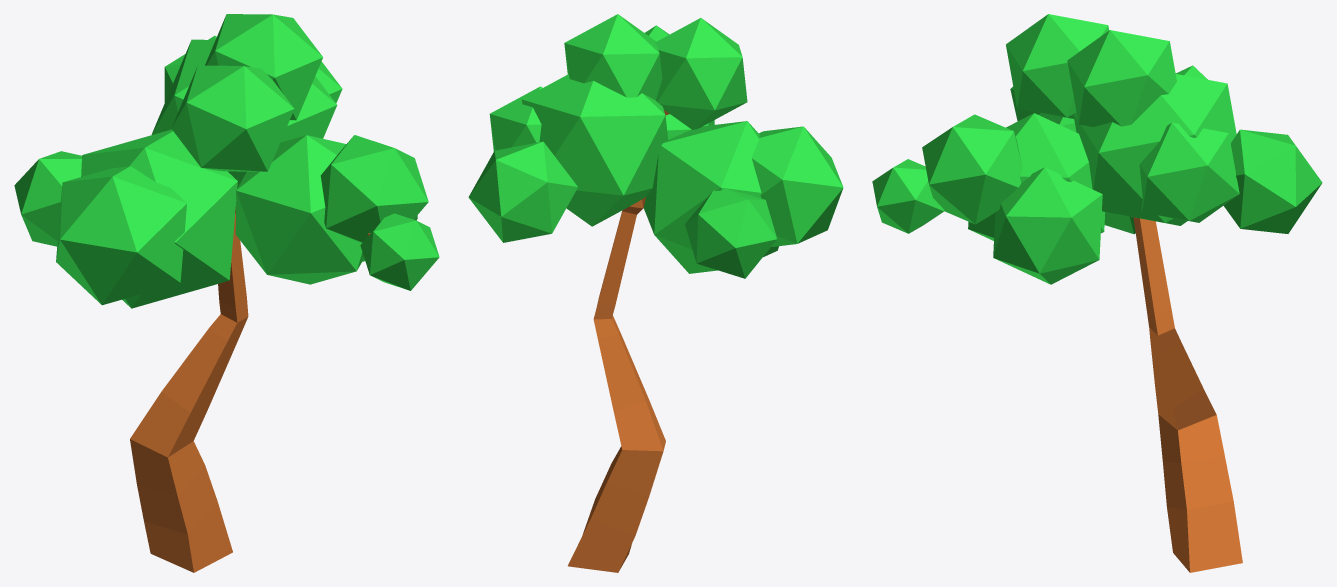
Rendered from pohon3.fbx.
The picture shows the model from 3 angles, left to right: view 1: azimuth 30°, elevation 25°; view 2: azimuth 150°, elevation 25°; view 3: azimuth 270°, elevation 25°; orthographic projection. The views are drawn at different scales.
Parts seen in each view (by area): view 1: Cube.024, Icosphere.016, Icosphere.026, Icosphere.025, Icosphere.023, Icosphere.018, Icosphere.022, Icosphere.017, Icosphere.015, Icosphere.024; view 2: Icosphere.024, Cube.024, Icosphere.025, Icosphere.016, Icosphere.020, Icosphere.023, Icosphere.015, Icosphere.022, Icosphere.021; view 3: Cube.024, Icosphere.024, Icosphere.019, Icosphere.022, Icosphere.018, Icosphere.021, Icosphere.020, Icosphere.023, Icosphere.026, Icosphere.017, Icosphere.025.
Part boxes in pixels (x1,y1,x2,y2): Cube.024: (130,206,370,572); Icosphere.016: (56,166,186,305); Icosphere.026: (235,135,364,284); Icosphere.025: (81,129,237,308); Icosphere.023: (171,65,294,171); Icosphere.018: (320,135,428,243); Icosphere.022: (205,14,322,120); Icosphere.017: (360,213,439,290); Icosphere.015: (14,151,81,246); Icosphere.024: (151,39,337,187); Icosphere.024: (521,74,668,226); Cube.024: (568,110,669,572); Icosphere.025: (643,121,778,273); Icosphere.016: (751,126,843,246); Icosphere.020: (468,141,577,242); Icosphere.023: (655,18,747,129); Icosphere.015: (685,188,776,278); Icosphere.022: (564,14,662,100); Icosphere.021: (489,86,542,151); Cube.024: (1133,217,1242,572); Icosphere.024: (1073,74,1236,225); Icosphere.019: (993,167,1102,284); Icosphere.022: (1067,30,1176,126); Icosphere.018: (922,114,1022,224); Icosphere.021: (1139,122,1239,222); Icosphere.020: (1223,129,1322,233); Icosphere.023: (1006,14,1109,118); Icosphere.026: (968,113,1105,240); Icosphere.017: (872,159,944,233); Icosphere.025: (1038,113,1135,234).
Size of the model in its own units: 227 by 363 by 272.
